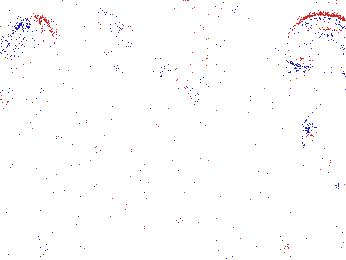moon jellyfish: (96, 1, 211, 79), (177, 3, 249, 86), (1, 13, 56, 104), (284, 12, 346, 73), (304, 121, 346, 199)
